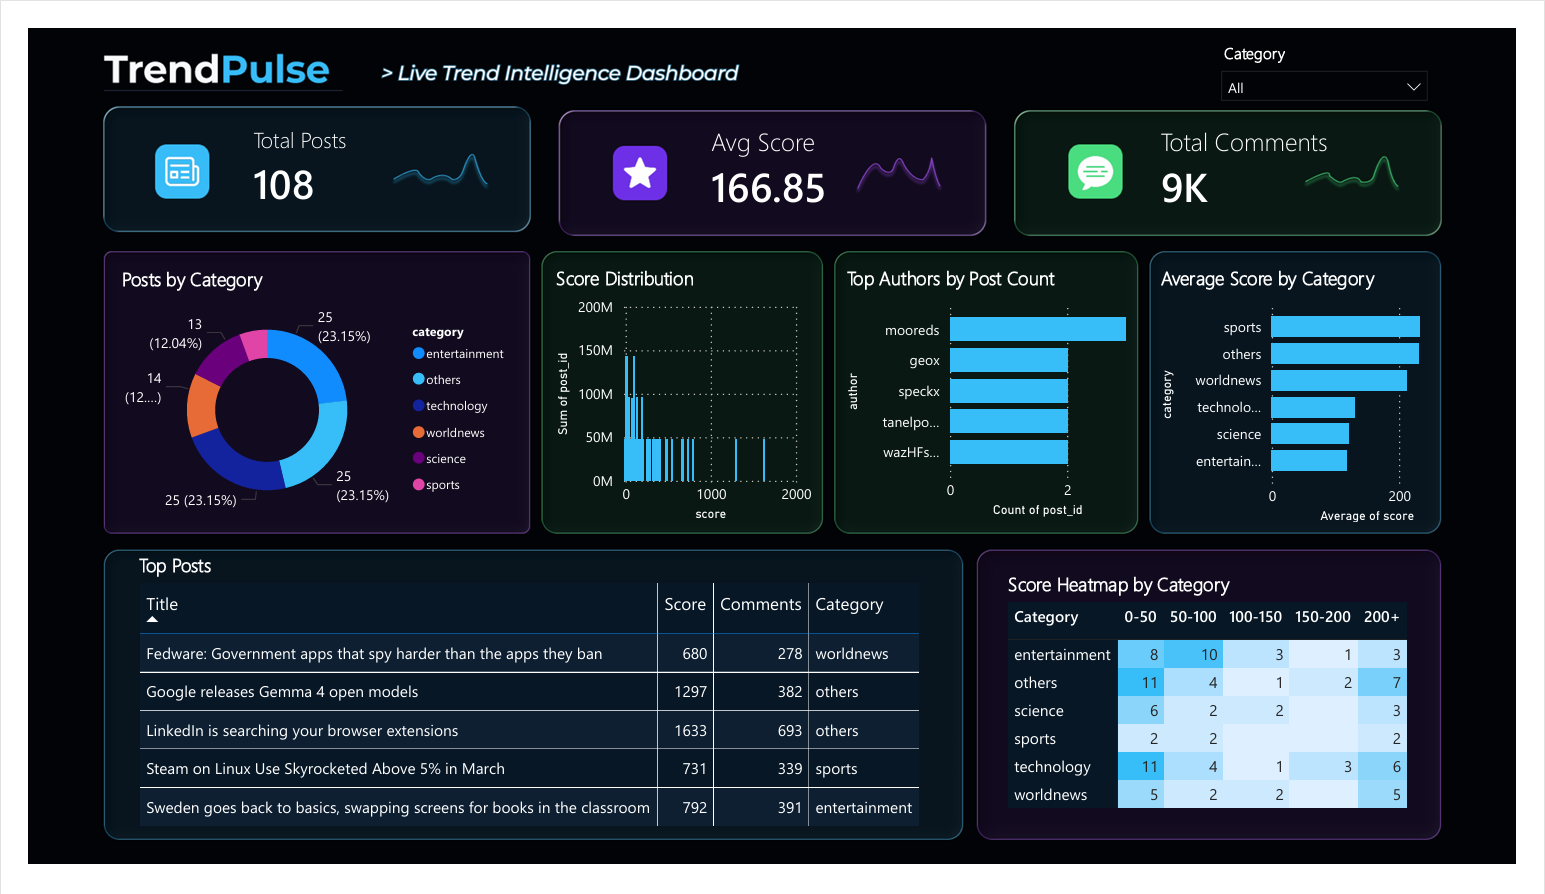

What the dashboard file says about the page in this screenshot:
{"tool":"powerbi","page":{"name":"Page 2","canvas":[1280,720],"ordinal":0},"visuals":[{"type":"cardVisual","fields":{"Data":["cleaned_trends.Total Post"]},"box":[163.8,67.5,146.2,101.2],"z":0},{"type":"cardVisual","fields":{"Data":["cleaned_trends.Avg Score"]},"box":[557.5,68.8,163.8,101.2],"z":1000},{"type":"cardVisual","fields":{"Data":["cleaned_trends.Total Comments"]},"box":[945,70,205,100],"z":2000},{"type":"donutChart","title":"Posts by Category","fields":{"Category":["cleaned_trends.category"],"Y":["CountNonNull(cleaned_trends.post_id)"]},"box":[75,203.8,347.5,225],"z":3000},{"type":"clusteredColumnChart","title":"Score Distribution","fields":{"Category":["cleaned_trends.score"],"Y":["Sum(cleaned_trends.post_id)"]},"box":[448.8,202.5,231.2,225],"z":4000},{"type":"clusteredBarChart","title":"Top Authors by Post Count","fields":{"Category":["cleaned_trends.author"],"Y":["CountNonNull(cleaned_trends.post_id)"]},"box":[698.8,202.5,253.8,221.2],"z":5000},{"type":"clusteredBarChart","title":"Average Score by Category","fields":{"Category":["cleaned_trends.category"],"Y":["Avg(cleaned_trends.score)"]},"box":[968.8,202.5,280,226.2],"z":6000},{"type":"tableEx","title":"Top Posts","fields":{"Values":["cleaned_trends.title","cleaned_trends.score","cleaned_trends.num_comments","cleaned_trends.category"]},"box":[90,450,692.5,242.5],"z":7000},{"type":"pivotTable","title":"Score Heatmap by Category","fields":{"Rows":["cleaned_trends.category"],"Columns":["cleaned_trends.Score Range"],"Values":["CountNonNull(cleaned_trends.post_id)"]},"box":[837.5,466.2,372.5,211.2],"z":8000},{"type":"slicer","title":"Category","fields":{"Values":["cleaned_trends.category"]},"box":[1015.7,7.1,198.6,57.1],"z":9000}]}

Visuals, with their boxes in screenshot pixels (x1, y1, x2, y2), scaled from the page's 1280x720 canvas onto the 1545x894 screenshot:
cardVisual - cleaned_trends.Total Post: (198, 84, 374, 209)
cardVisual - cleaned_trends.Avg Score: (673, 85, 871, 211)
cardVisual - cleaned_trends.Total Comments: (1141, 87, 1388, 211)
"Posts by Category" donutChart: (91, 253, 510, 532)
"Score Distribution" clusteredColumnChart: (542, 251, 821, 531)
"Top Authors by Post Count" clusteredBarChart: (843, 251, 1150, 526)
"Average Score by Category" clusteredBarChart: (1169, 251, 1507, 532)
"Top Posts" tableEx: (109, 559, 945, 860)
"Score Heatmap by Category" pivotTable: (1011, 579, 1461, 841)
"Category" slicer: (1226, 9, 1466, 80)
